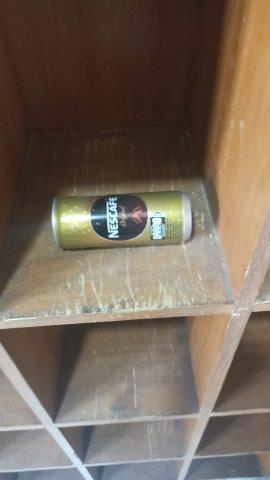kaleng: (50, 191, 195, 250)
